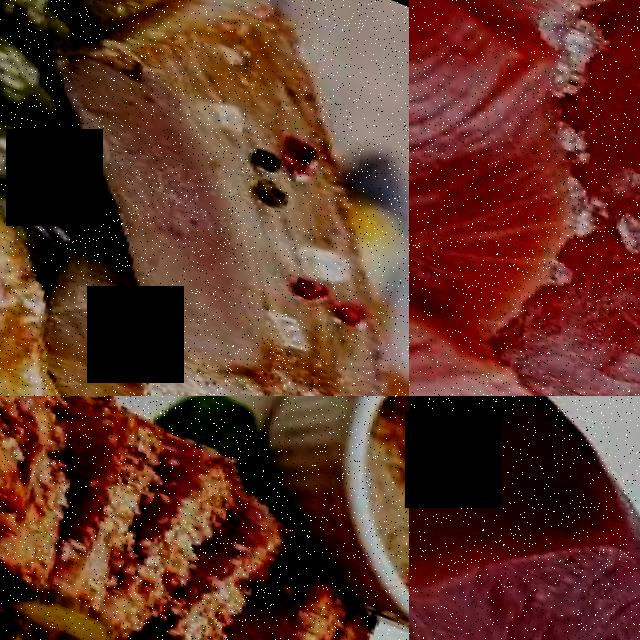tuna: (409, 0, 610, 310), (409, 396, 640, 640), (484, 226, 640, 396), (546, 0, 640, 279), (409, 289, 640, 396)
